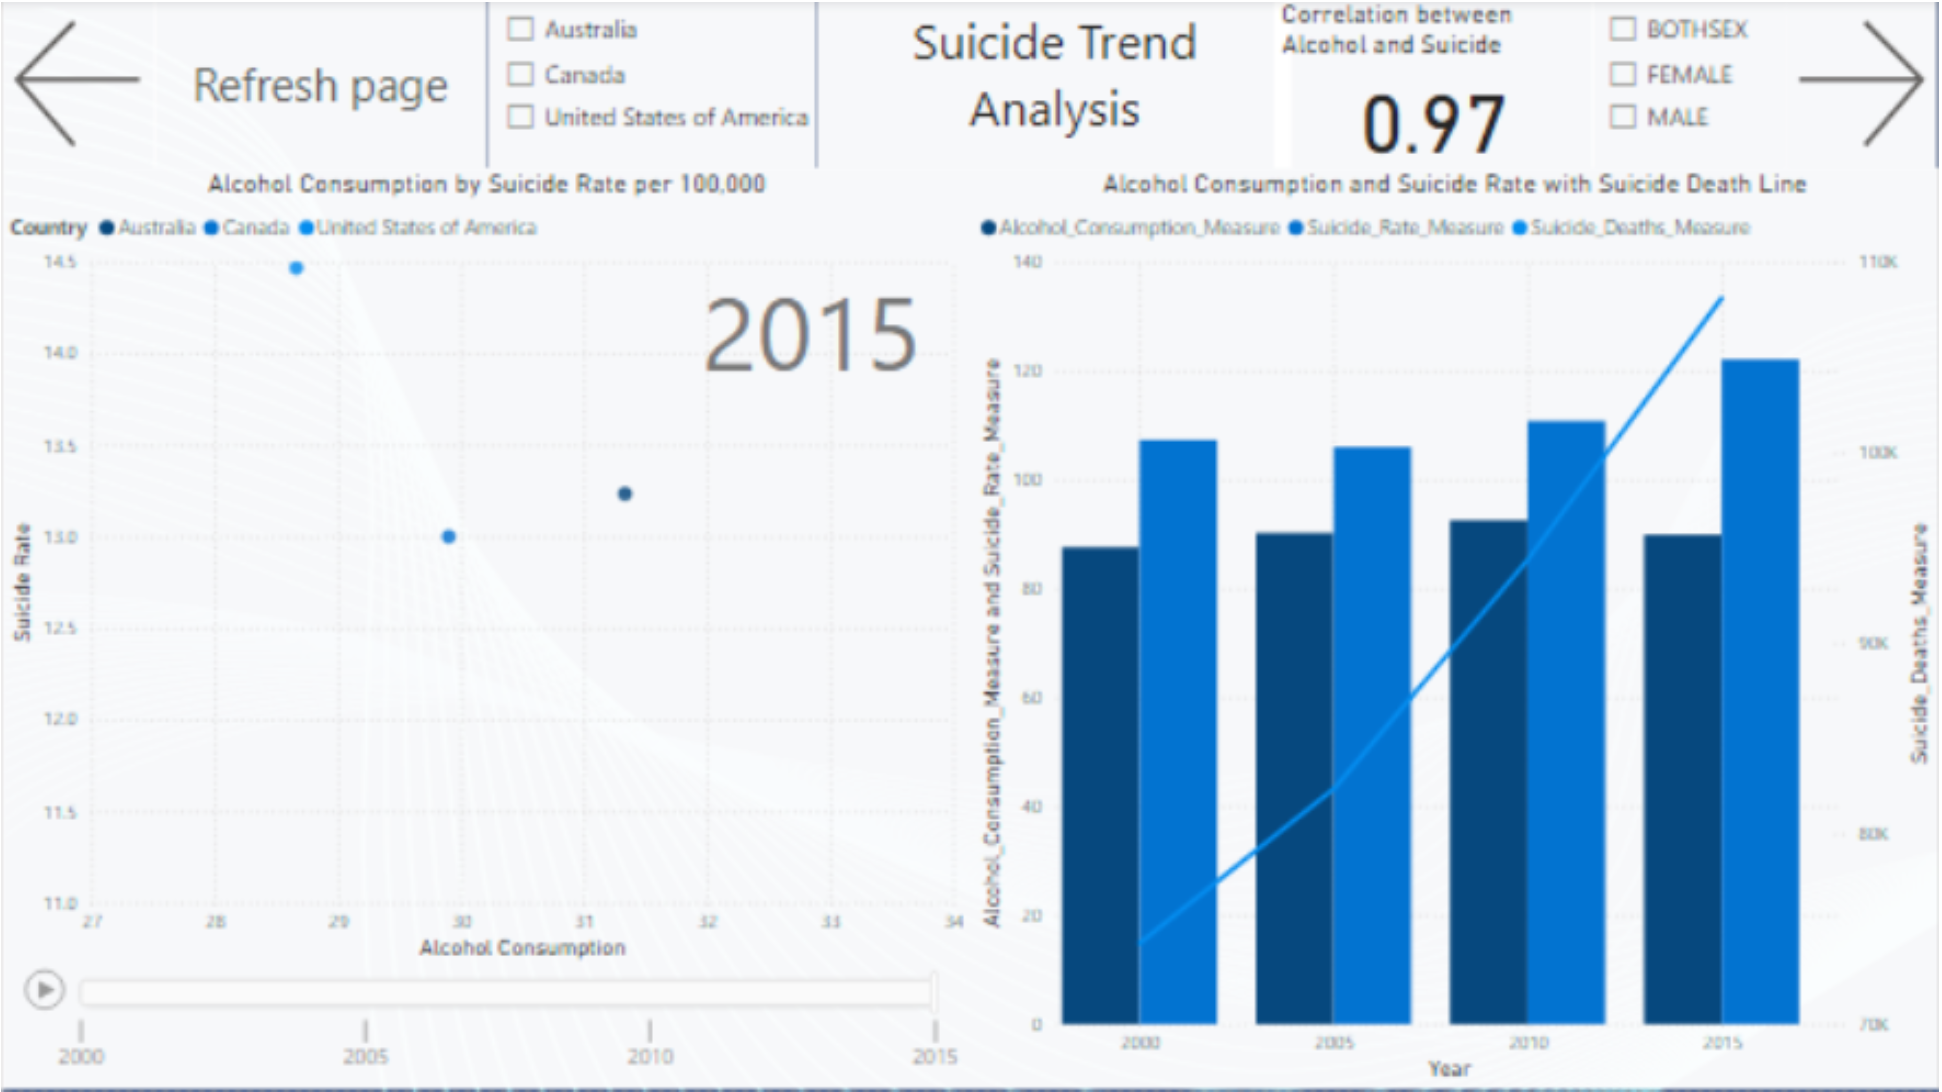

What the dashboard file says about the page in this screenshot:
{"tool":"powerbi","page":{"name":"Suicide Trend Analysis","canvas":[1280,720],"ordinal":1},"visuals":[{"type":"slicer","fields":{"Values":["transformed_data_for_visualization.GeoAreaName"]},"box":[321.1,0,217.3,111.9],"z":0},{"type":"slicer","fields":{"Values":["transformed_data_for_visualization.Sex"]},"box":[1050.8,0,128.1,111.9],"z":1000},{"type":"actionButton","box":[0,0,100.5,111.9],"z":2000},{"type":"actionButton","box":[1178.9,0,100.5,111.9],"z":3000},{"type":"actionButton","box":[100.5,0,220.5,111.9],"z":4000},{"type":"textbox","box":[538.4,0,313,111.9],"z":5000},{"type":"lineClusteredColumnComboChart","title":"Alcohol Consumption and Suicide Rate with Suicide Death Line","fields":{"Category":["transformed_data_for_visualization.Year"],"Y":["transformed_data_for_visualization.Alcohol_Consumption_Measure","transformed_data_for_visualization.Suicide_Rate_Measure"],"Y2":["transformed_data_for_visualization.Suicide_Deaths_Measure"]},"box":[640.5,111.9,638.9,608.1],"z":6000},{"type":"scatterChart","title":"Alcohol Consumption by Suicide Rate per 100,000","fields":{"Y":["transformed_data_for_visualization.Suicide_Rate_Measure"],"Series":["transformed_data_for_visualization.GeoAreaName"],"Play":["transformed_data_for_visualization.Year"],"X":["transformed_data_for_visualization.Alcohol_Consumption_Measure"]},"box":[0,111.9,640.5,608.1],"z":7000},{"type":"card","title":"Correlation between Alcohol and Suicide","fields":{"Values":["transformed_data_for_visualization.Correlation_Alcohol_Suicide"]},"box":[840,0,210.8,111.9],"z":8000}]}

Visuals, with their boxes in screenshot pixels (x1, y1, x2, y2), scaled from the page's 1280x720 canvas onto the 1942x1092 screenshot:
slicer - transformed_data_for_visualization.GeoAreaName: [x1=487, y1=0, x2=817, y2=170]
slicer - transformed_data_for_visualization.Sex: [x1=1594, y1=0, x2=1789, y2=170]
actionButton: [x1=0, y1=0, x2=152, y2=170]
actionButton: [x1=1789, y1=0, x2=1941, y2=170]
actionButton: [x1=152, y1=0, x2=487, y2=170]
textbox: [x1=817, y1=0, x2=1292, y2=170]
"Alcohol Consumption and Suicide Rate with Suicide Death Line" lineClusteredColumnComboChart: [x1=972, y1=170, x2=1941, y2=1091]
"Alcohol Consumption by Suicide Rate per 100,000" scatterChart: [x1=0, y1=170, x2=972, y2=1091]
"Correlation between Alcohol and Suicide" card: [x1=1274, y1=0, x2=1594, y2=170]
